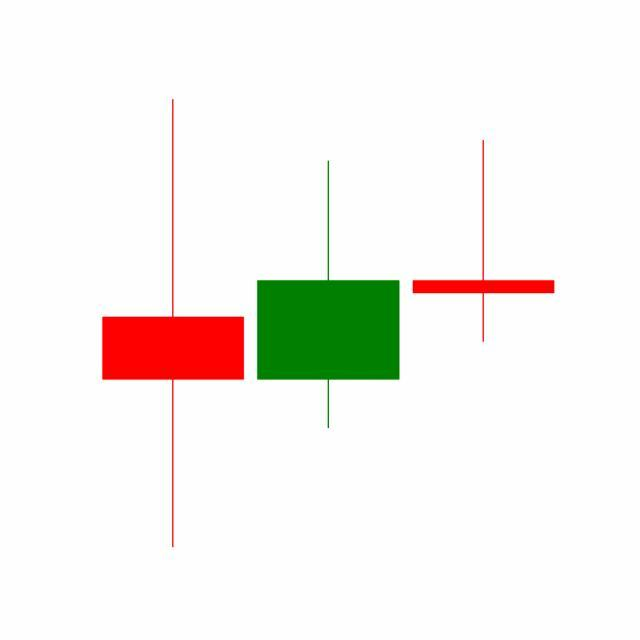Spinning Top: (406, 138, 562, 345)
